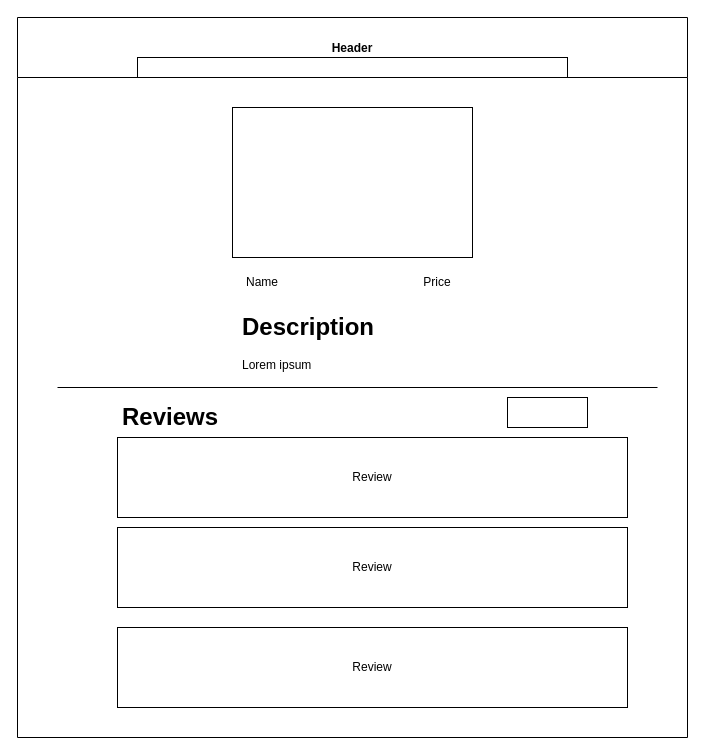
Some shapes in this 705 by 755 pixel diagram are drawn without their labels. The shapes that lost their labels are listed below. From the top down, each one's centre as x and y in pixels, then its label:
At point 352,67: "Navbar".
At point 547,412: "Add review".
